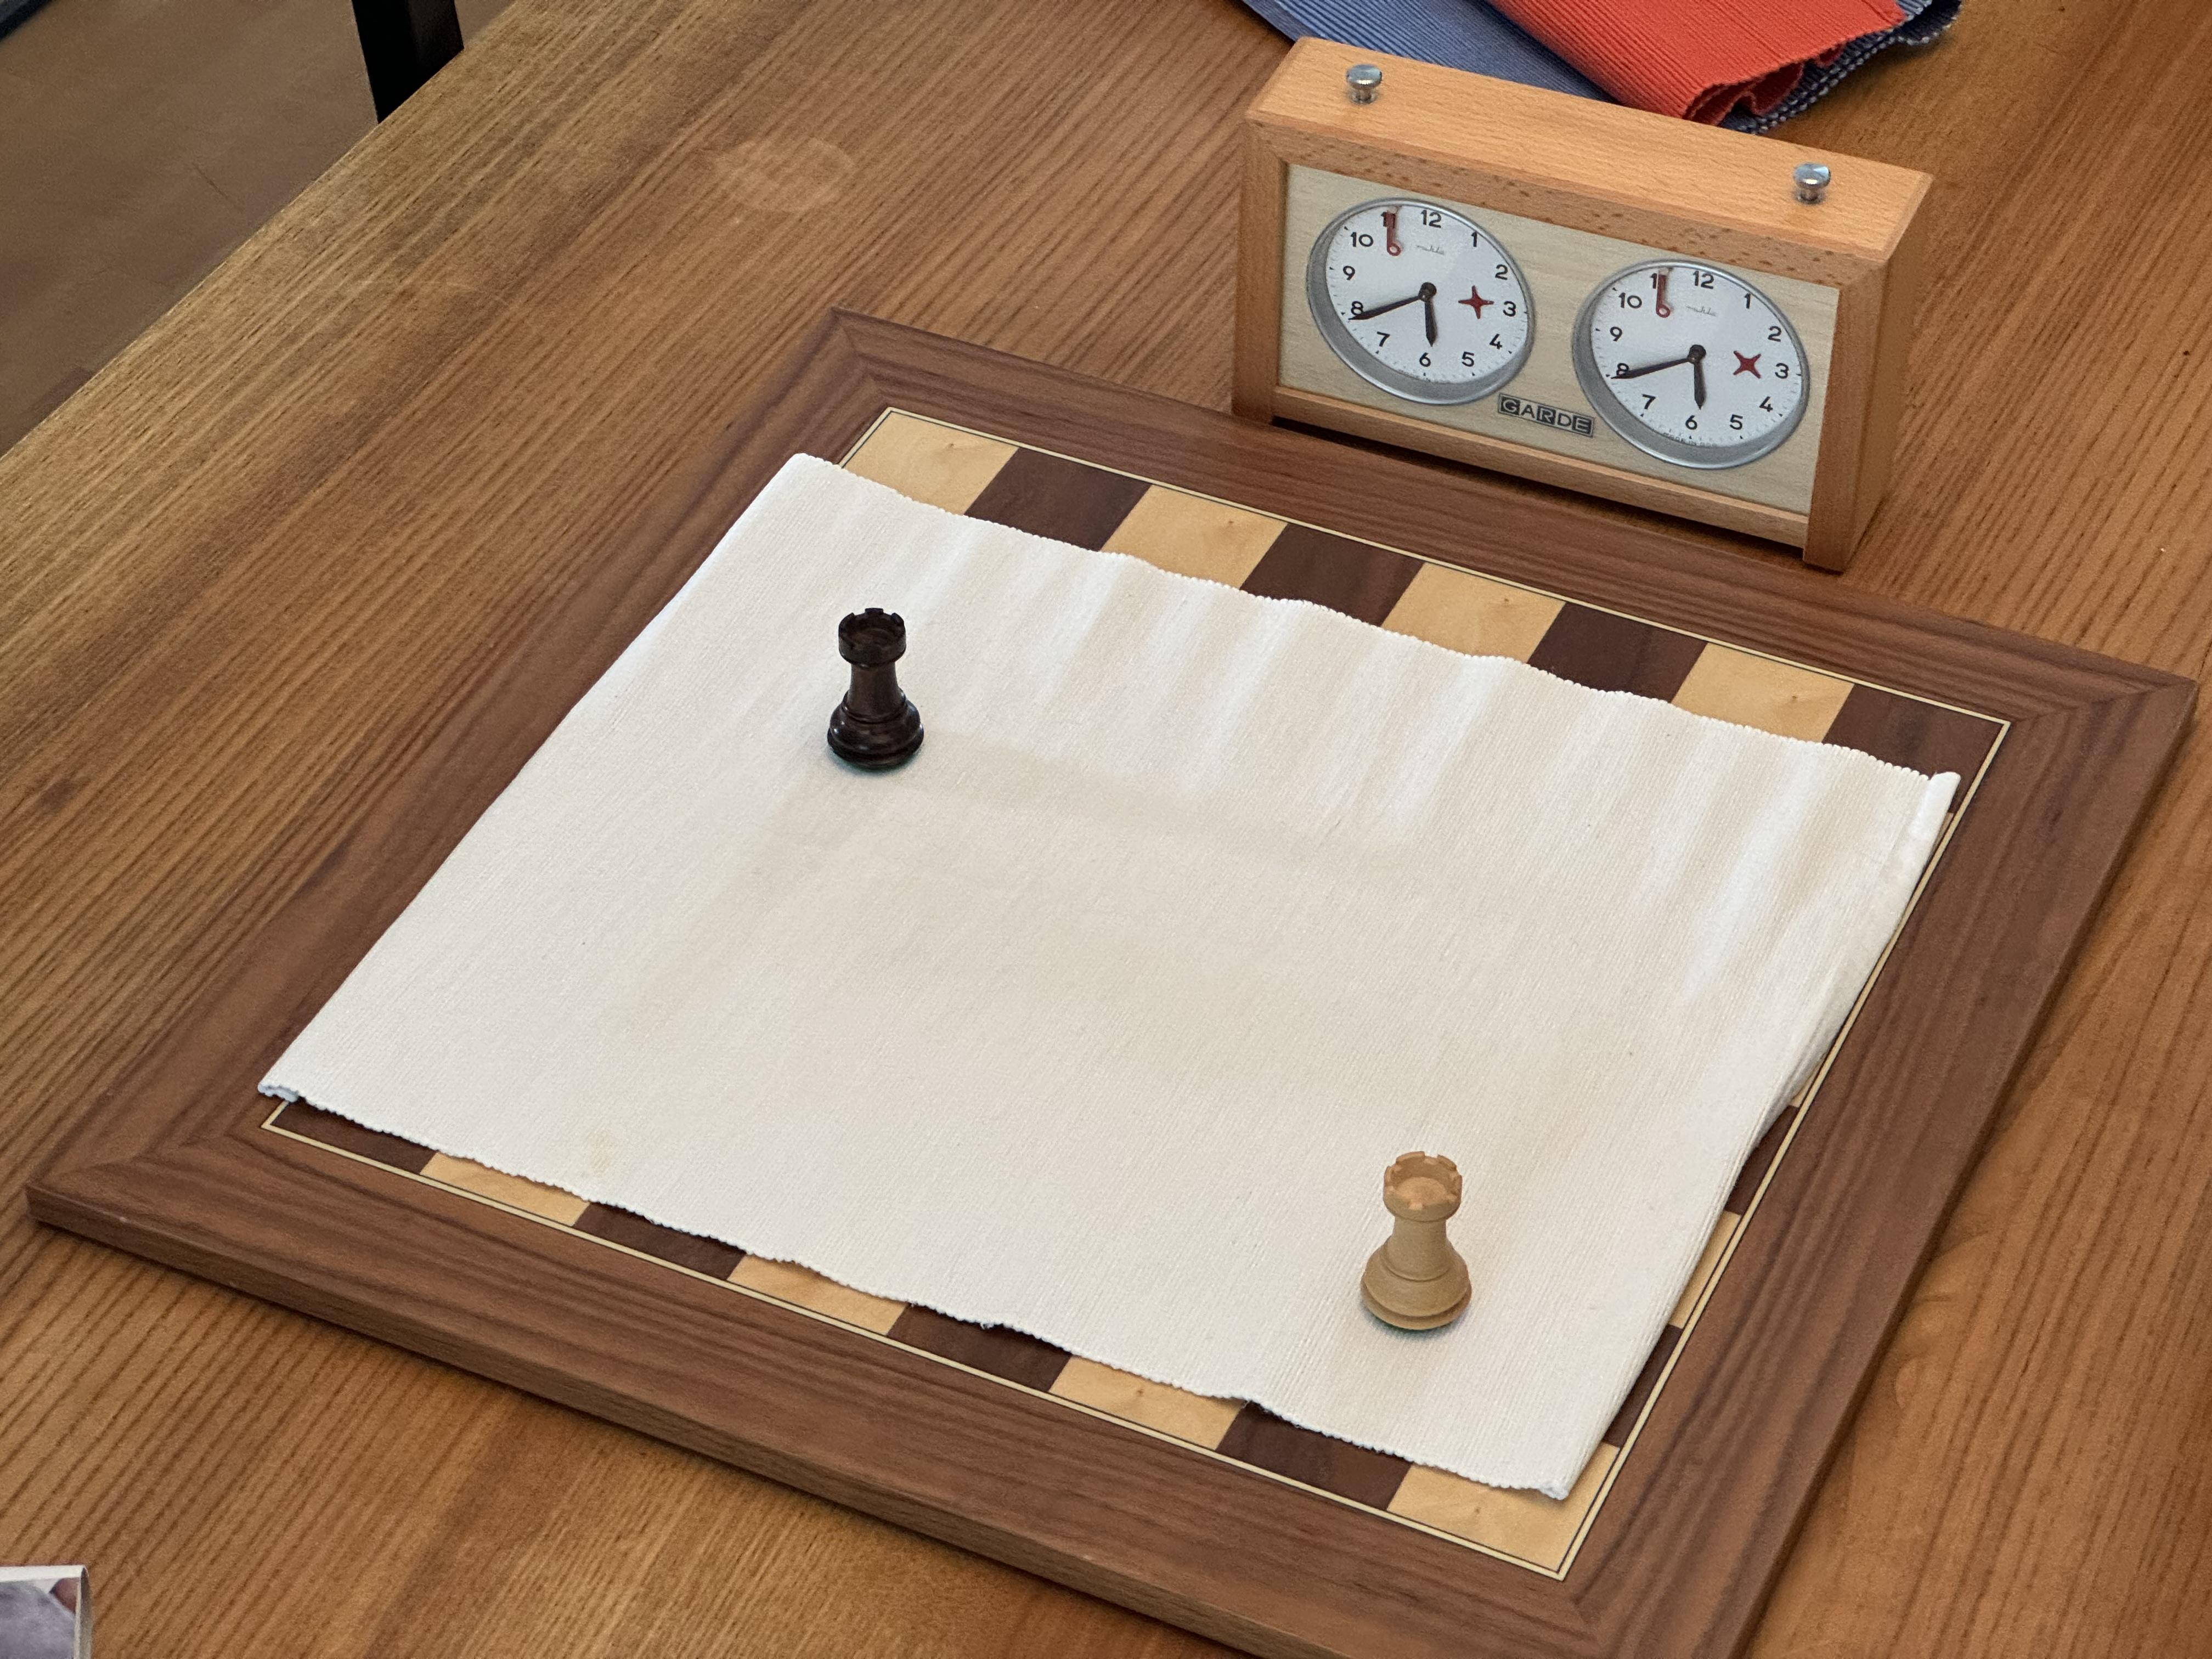Black Rook: (798, 589, 941, 793)
White Rook: (1350, 1145, 1486, 1358)
